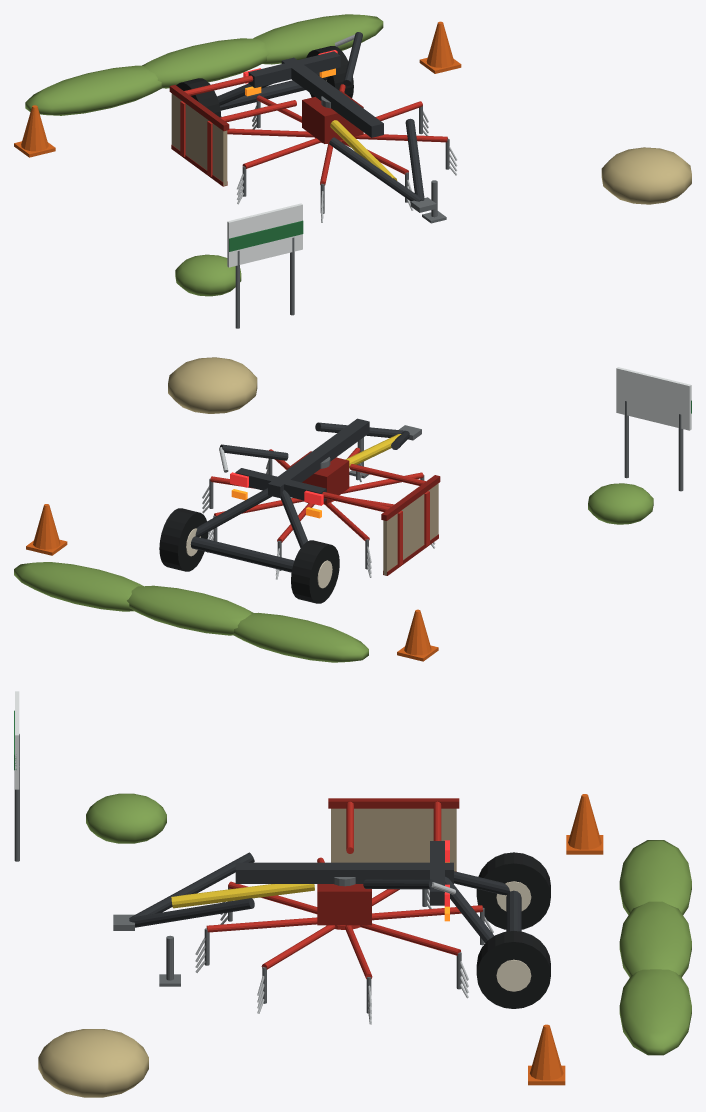
File: rotary_rake.glb
3 renders of one model, top to bottom at view 1: azimuth 30°, elevation 25°; view 2: azimuth 150°, elevation 25°; view 3: azimuth 270°, elevation 25°, orthographic. The views are drawn at different scales.
Visible parts, largest first — view 1: FieldProps, RakeBody, SwathCurtain, RakeRotor; view 2: FieldProps, RakeBody, SwathCurtain, RakeRotor; view 3: FieldProps, RakeBody, SwathCurtain, RakeRotor.
Part boxes in pixels (<box>): FieldProps: <box>14,14,691,328</box>; RakeBody: <box>176,32,446,223</box>; SwathCurtain: <box>169,85,229,186</box>; RakeRotor: <box>227,84,457,222</box>; FieldProps: <box>14,357,691,662</box>; RakeBody: <box>159,418,425,603</box>; SwathCurtain: <box>381,475,440,575</box>; RakeRotor: <box>202,447,435,579</box>; FieldProps: <box>14,691,691,1097</box>; RakeBody: <box>113,801,550,1008</box>; SwathCurtain: <box>328,798,459,871</box>; RakeRotor: <box>195,857,493,1024</box>.
Bounding box in the file's own units: 6.31 × 1.32 × 6.21.
